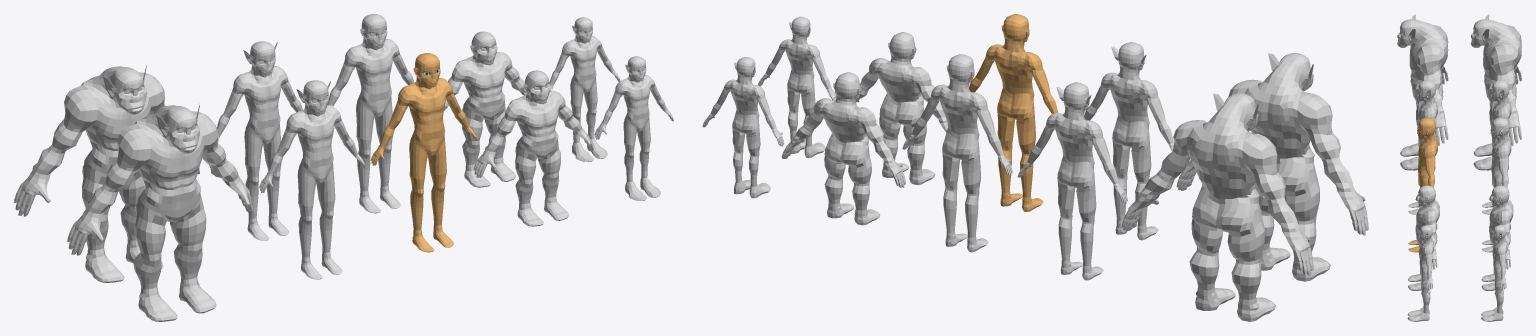
3 renders of one model, left to right at view 1: azimuth 30°, elevation 25°; view 2: azimuth 150°, elevation 25°; view 3: azimuth 270°, elevation 25°, orthographic. The views are drawn at different scales.
Visible parts, largest first — view 1: Orc, Orc.001, Elf, Human, Dwarf, Elf.001, Human.001, Dwarf.001, Hobbit, Hobbit.001; view 2: Orc.001, Orc, Elf.001, Human.001, Dwarf.001, Human, Elf, Dwarf, Hobbit.001, Hobbit; view 3: Orc, Orc.001, Dwarf, Dwarf.001, Human, Human.001, Hobbit.001, Hobbit, Elf, Elf.001.
Part boxes in pixels (x1,y1,x2,y2): Orc: [67, 104, 252, 321]; Orc.001: [14, 65, 199, 282]; Elf: [259, 80, 365, 279]; Human: [370, 53, 477, 252]; Dwarf: [474, 70, 593, 226]; Elf.001: [217, 41, 302, 240]; Human.001: [327, 14, 414, 213]; Dwarf.001: [444, 31, 526, 187]; Hobbit: [594, 56, 673, 200]; Hobbit.001: [549, 17, 620, 161]; Orc.001: [1121, 93, 1313, 321]; Orc: [1176, 53, 1368, 281]; Elf.001: [1017, 82, 1127, 280]; Human.001: [902, 54, 1012, 252]; Dwarf.001: [781, 72, 905, 225]; Human: [969, 14, 1058, 211]; Elf: [1084, 42, 1173, 240]; Dwarf: [856, 32, 947, 184]; Hobbit.001: [702, 57, 784, 198]; Hobbit: [758, 16, 836, 158]; Orc: [1397, 14, 1448, 170]; Orc.001: [1470, 14, 1521, 170]; Dwarf: [1408, 185, 1439, 290]; Dwarf.001: [1481, 185, 1513, 290]; Human: [1408, 117, 1437, 252]; Human.001: [1482, 117, 1511, 252]; Hobbit.001: [1481, 225, 1507, 321]; Hobbit: [1407, 225, 1434, 321]; Elf: [1408, 79, 1437, 214]; Elf.001: [1482, 79, 1511, 214].
Size of the model in its own units: 645 by 210 by 170.
